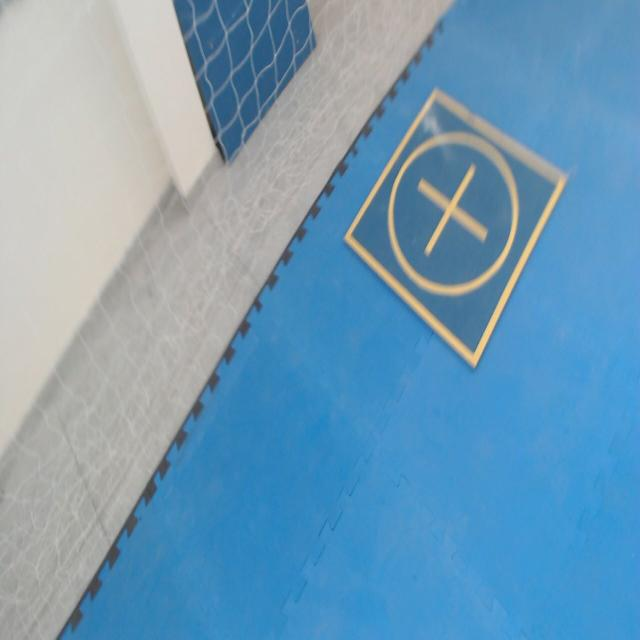base_pouso: (342, 84, 570, 369)
